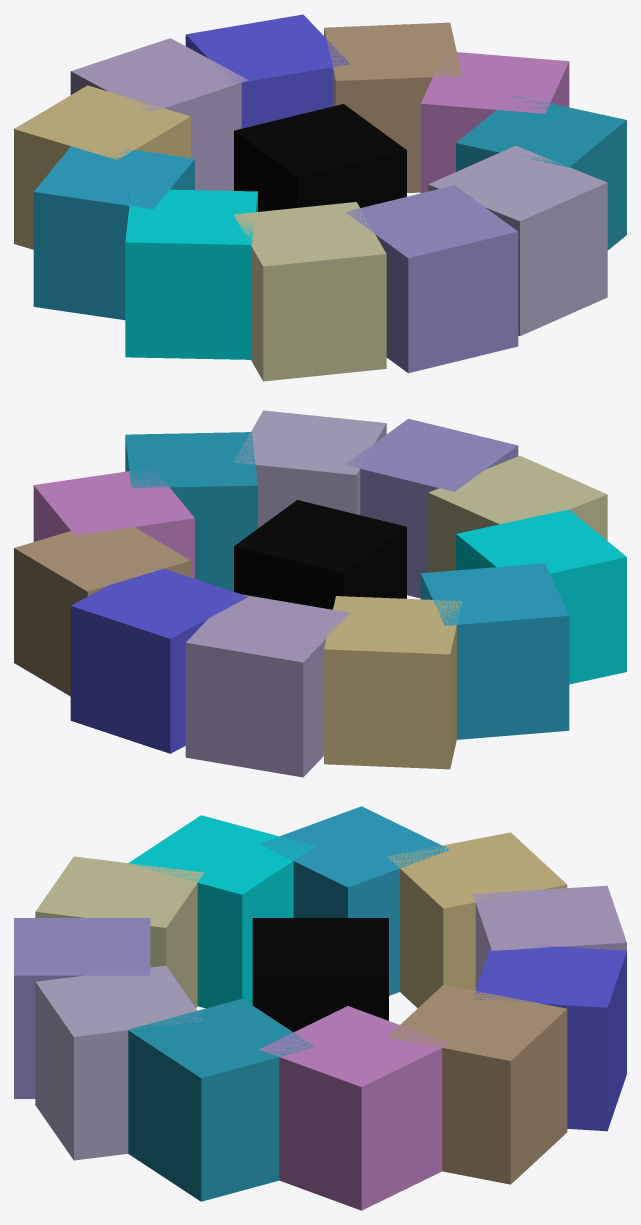
The picture shows the model from 3 angles, top to bottom: view 1: azimuth 30°, elevation 25°; view 2: azimuth 150°, elevation 25°; view 3: azimuth 270°, elevation 25°; orthographic projection. The views are drawn at different scales.
Visible parts, largest first — view 1: world; view 2: world; view 3: world.
Part boxes in pixels (x1,y1,x2,y2): world: [14, 14, 626, 381]; world: [14, 410, 626, 777]; world: [14, 806, 626, 1210].
Size of the model in its own units: 4.88 by 1 by 4.5.
